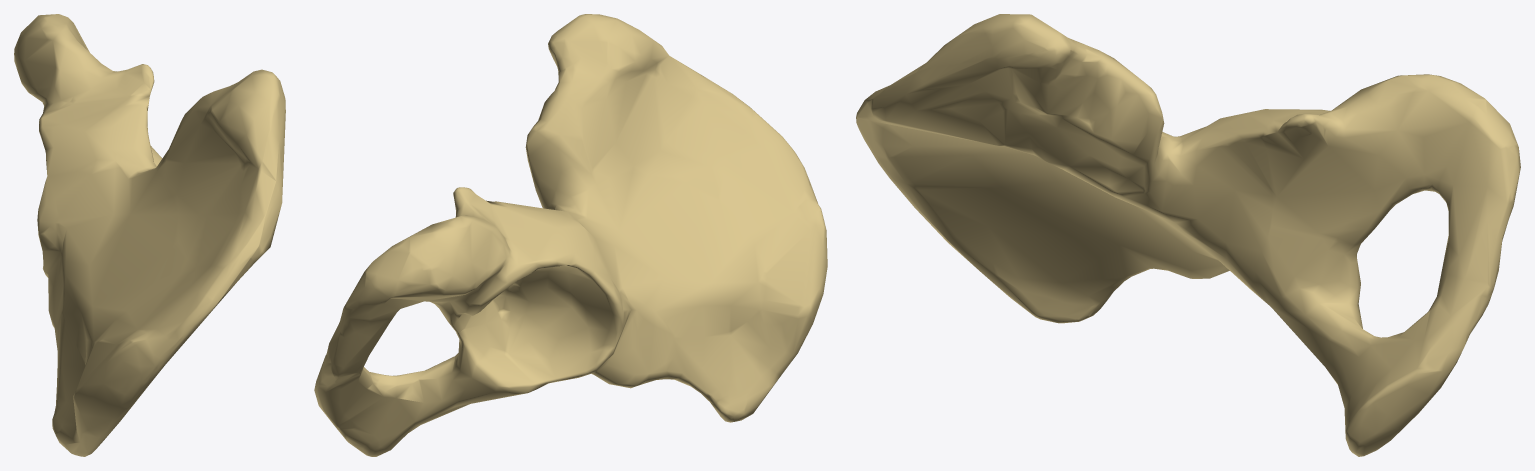
3 views of the same model, side by side, from view 1: azimuth 30°, elevation 25°; view 2: azimuth 150°, elevation 25°; view 3: azimuth 270°, elevation 25° (orthographic). The views are drawn at different scales.
Visible parts, largest first — view 1: 右侧髋骨; view 2: 右侧髋骨; view 3: 右侧髋骨.
Boxes of the visible parts, x1,y1,x2,y2 form: 右侧髋骨: [14, 14, 285, 456]; 右侧髋骨: [314, 14, 827, 456]; 右侧髋骨: [856, 14, 1520, 456].
Size of the model in its own units: 0.1944 by 0.2105 by 0.3162.
